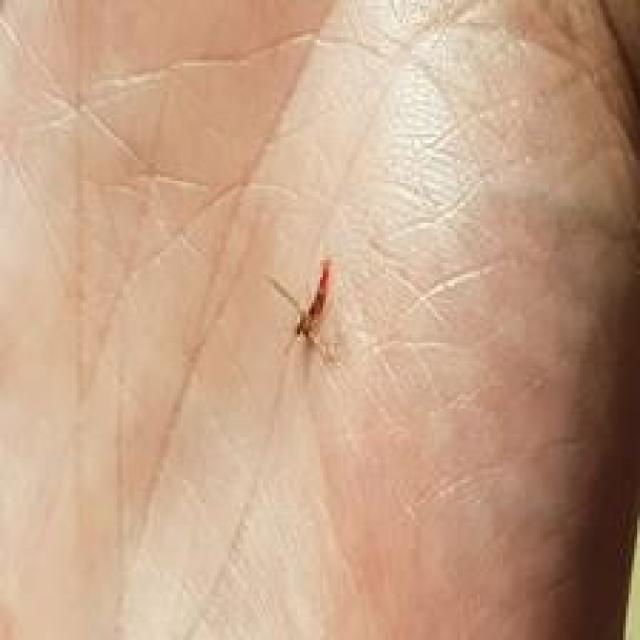Culex: (264, 255, 339, 358)
